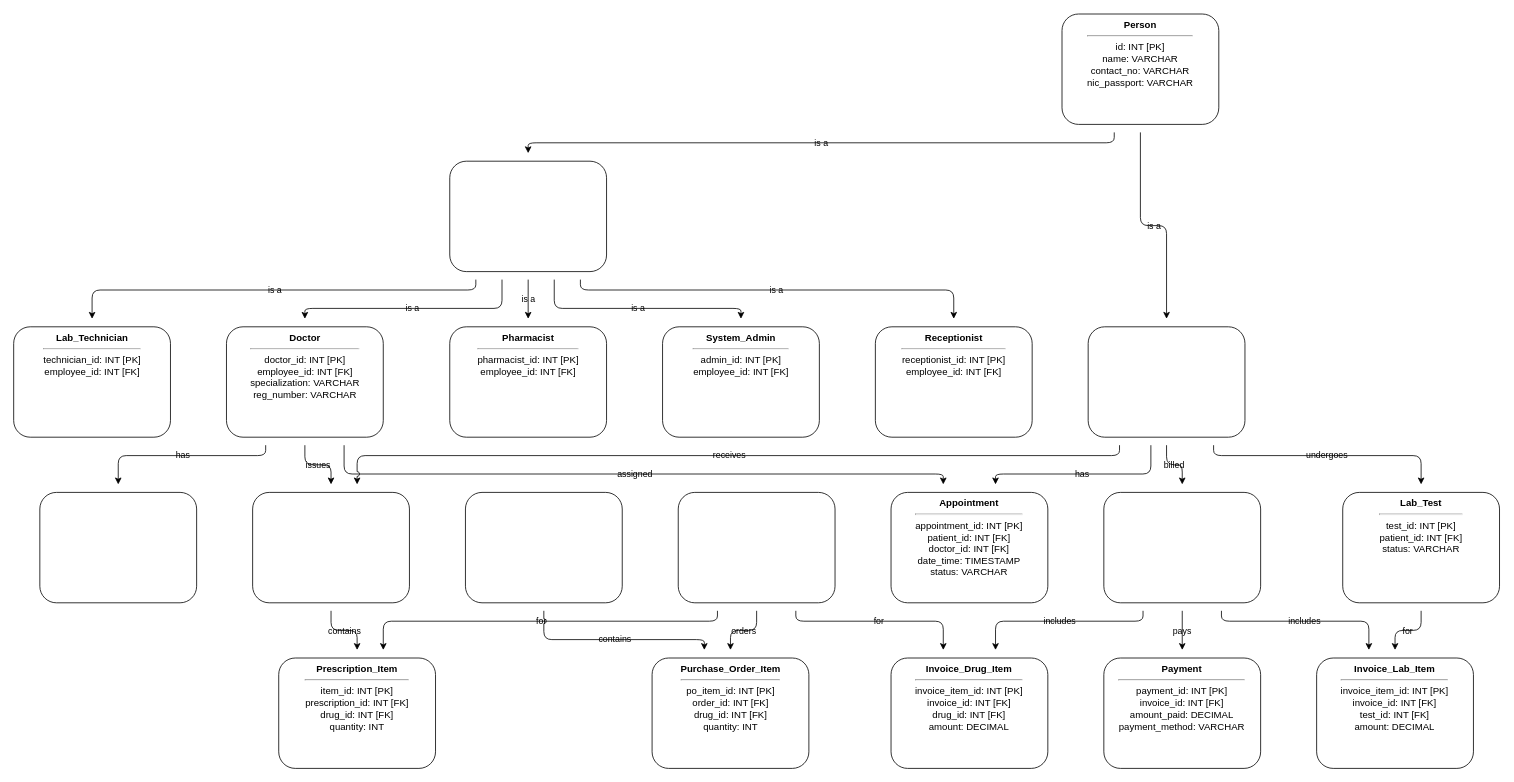
Some shapes in this 1514 by 782 pixel diagram are drawn without their labels. The shapes that lost their labels are listed below. From the top down, each one's centre as x and y in pixels, then its label:
point (528, 216): Employee employee_id: INT [PK] person_id: INT [FK] role: VARCHAR
point (1166, 381): Patient patient_id: INT [PK] person_id: INT [FK]
point (118, 547): Schedule schedule_id: INT [PK] doctor_id: INT [FK] available_slots: INT
point (330, 547): Prescription prescription_id: INT [PK] patient_id: INT [FK] doctor_id: INT [FK]
point (543, 547): Purchase_Order order_id: INT [PK] status: VARCHAR
point (756, 547): Drug drug_id: INT [PK] name: VARCHAR stock_quantity: INT reorder_level: INT
point (1182, 547): Invoice invoice_id: INT [PK] patient_id: INT [FK] total_amount: DECIMAL
